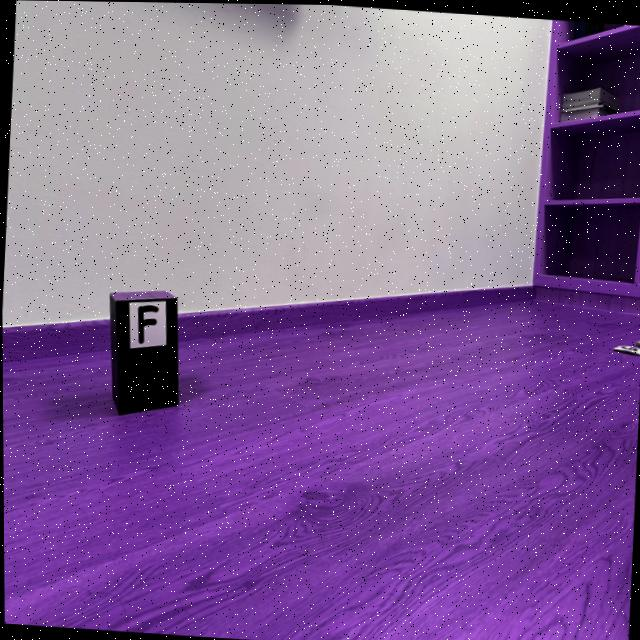F: (137, 304, 158, 344)
